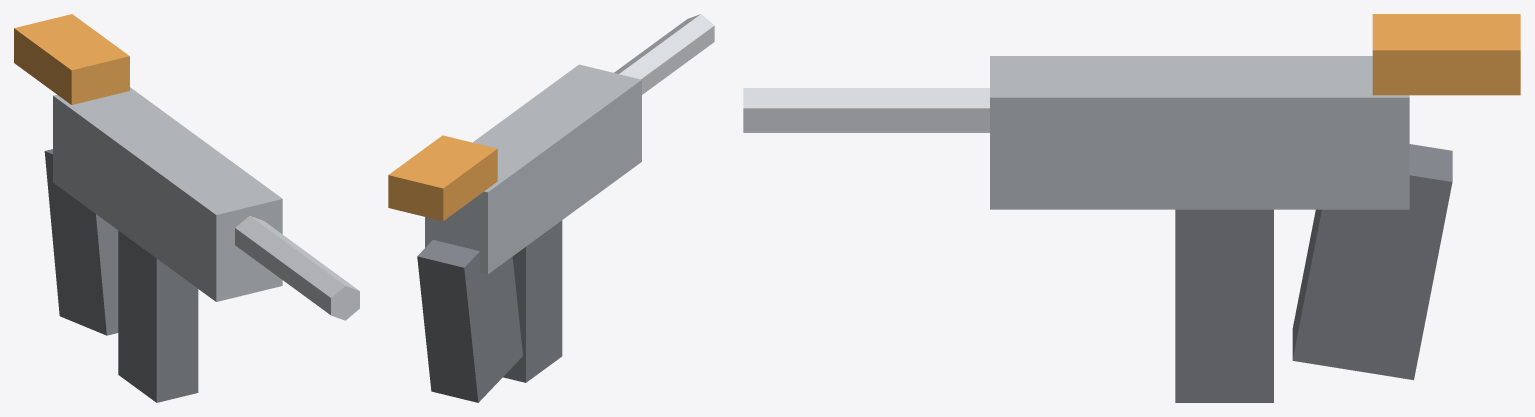
Rendered from RivetSMG.fbx.
The picture shows the model from 3 angles, left to right: view 1: azimuth 30°, elevation 25°; view 2: azimuth 150°, elevation 25°; view 3: azimuth 270°, elevation 25°; orthographic projection. The views are drawn at different scales.
Visible parts, largest first — view 1: Body; view 2: Body; view 3: Body.
Part boxes in pixels (<box>): Body: <box>14,14,359,402</box>; Body: <box>388,14,714,402</box>; Body: <box>743,14,1520,402</box>.
Bounding box in the file's own units: 0.08 × 0.32 × 0.63.
